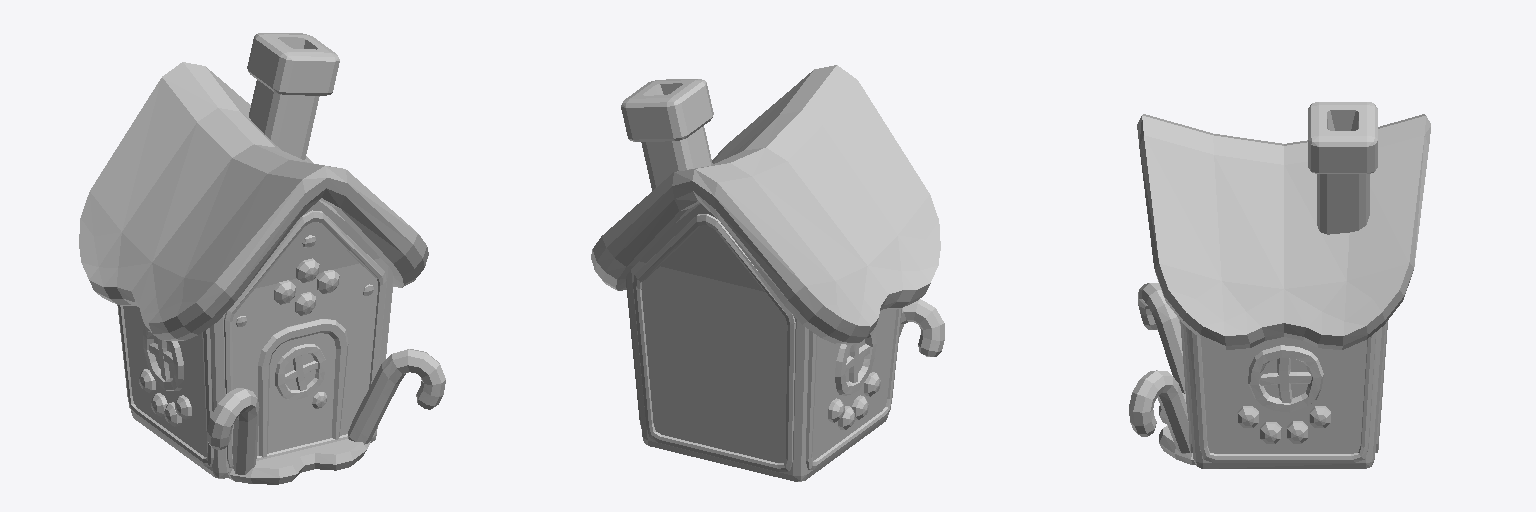
Rendered from gingerbread_house.obj.
3 views of the same model, side by side, from view 1: azimuth 30°, elevation 25°; view 2: azimuth 150°, elevation 25°; view 3: azimuth 270°, elevation 25° (orthographic).
Visible parts, largest first — view 1: gingerbread_house; view 2: gingerbread_house; view 3: gingerbread_house.
Part boxes in pixels (left/top/right/bottom): gingerbread_house: left=79, top=33, right=445, bottom=484; gingerbread_house: left=591, top=65, right=944, bottom=481; gingerbread_house: left=1129, top=102, right=1430, bottom=468.
Size of the model in its own units: 1.15 by 1.44 by 1.11.